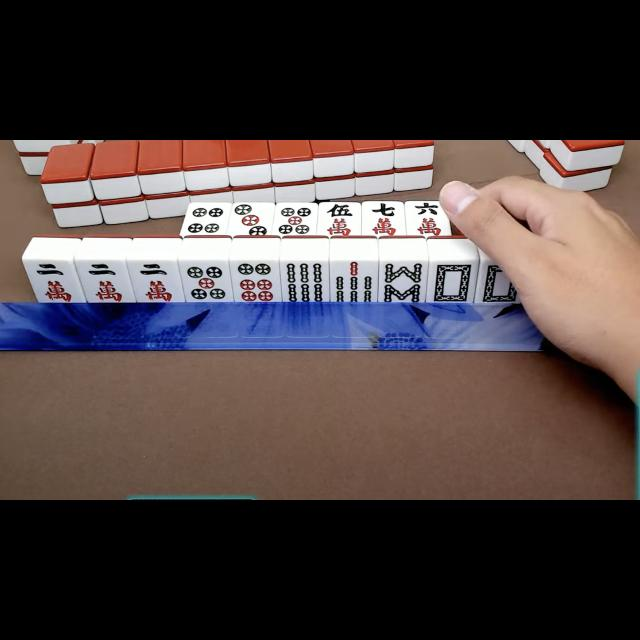b6: (280, 260, 330, 302)
b7: (331, 260, 377, 304)
b8: (379, 260, 427, 302)
c2: (27, 259, 81, 303), (80, 260, 130, 304), (132, 260, 180, 302)
c5: (318, 202, 362, 235)
c6: (407, 202, 449, 238)
c7: (364, 202, 404, 238)
d3: (230, 204, 272, 236)
d4: (185, 203, 229, 235)
d5: (182, 258, 232, 302), (274, 204, 316, 236)
d6: (232, 261, 278, 303)
dw: (430, 260, 476, 304), (478, 260, 520, 304)
